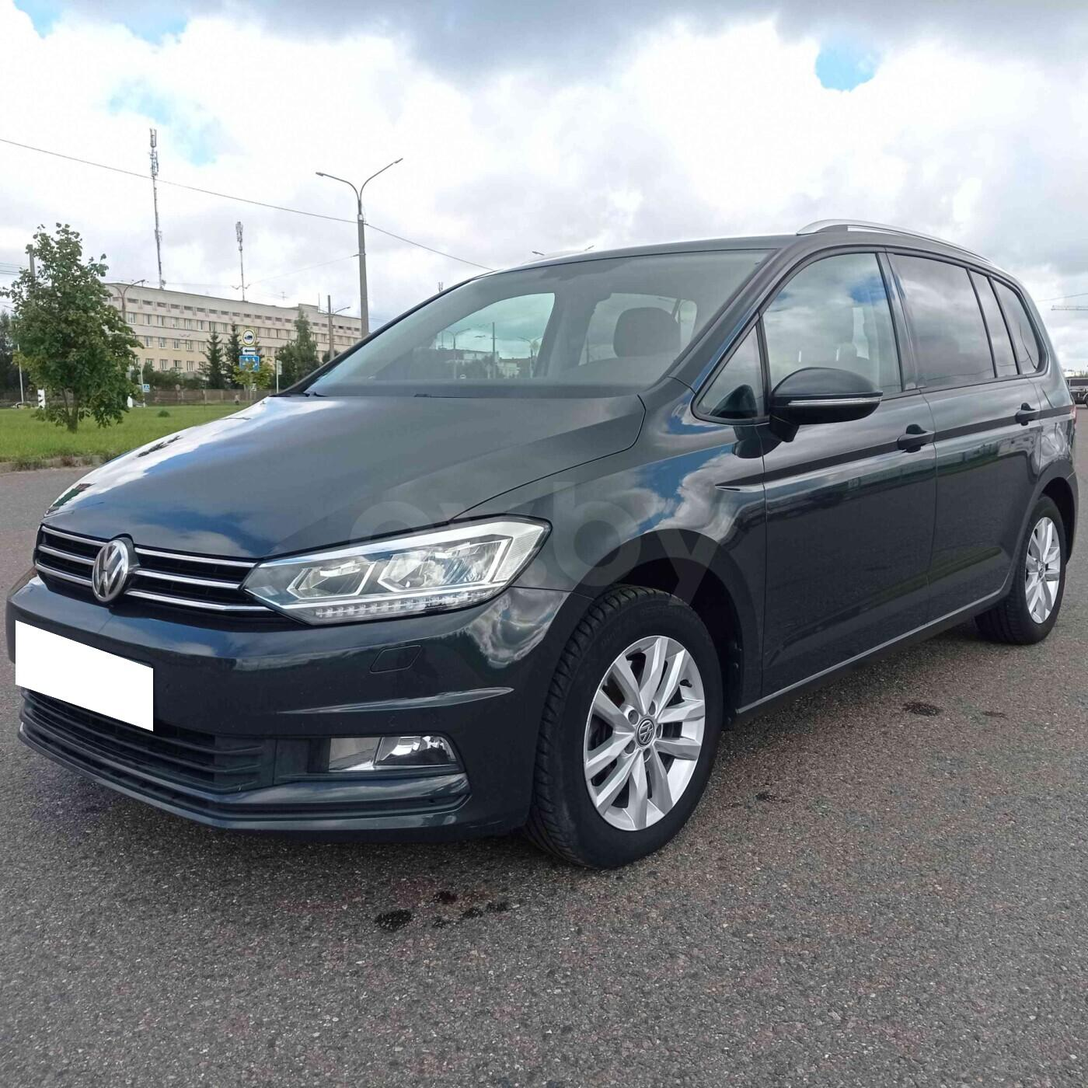Touran_2015: (3, 222, 1080, 869)
